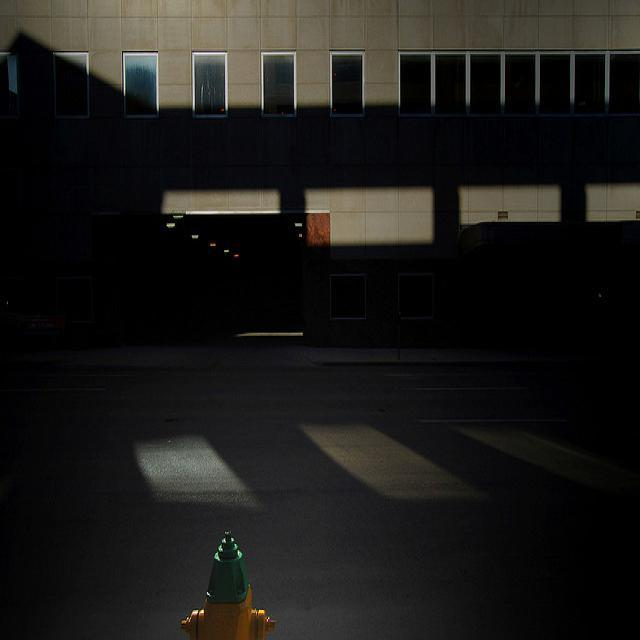fire_hydrant: (181, 530, 275, 640)
